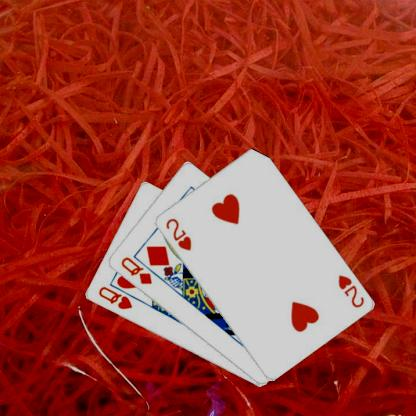2H: (334, 272, 366, 309), (163, 216, 192, 252)
QD: (118, 254, 153, 286)
QH: (95, 283, 133, 311)
